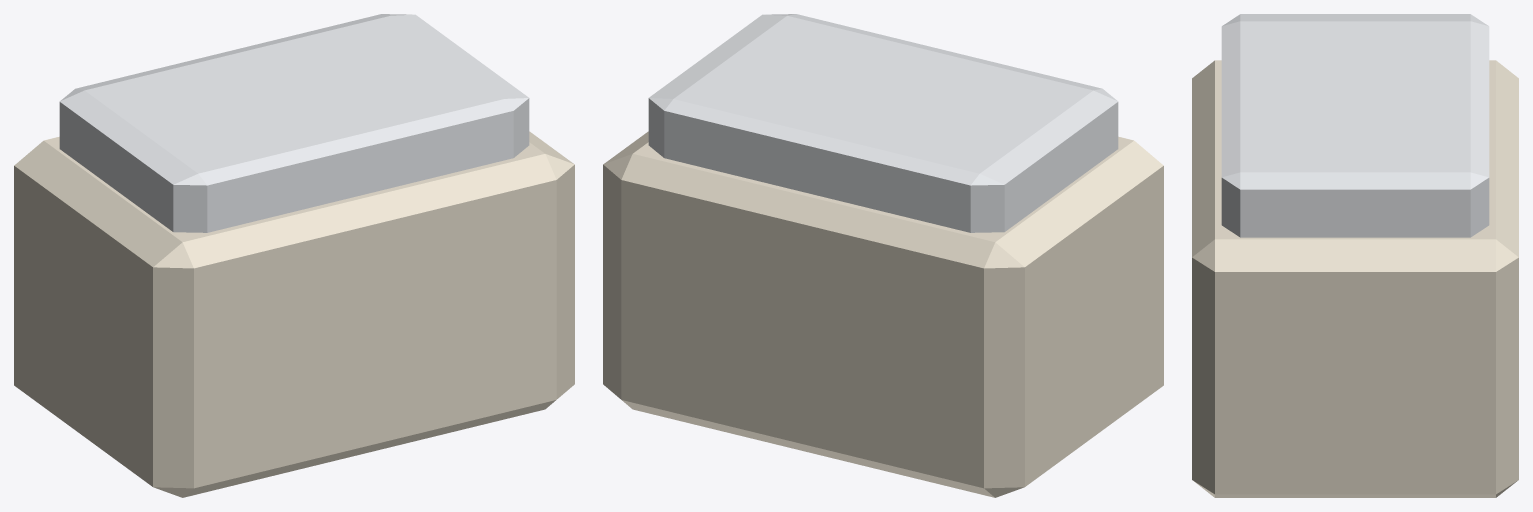
The model's file is b17_compact_digital_camera.glb.
3 renders of one model, left to right at view 1: azimuth 30°, elevation 25°; view 2: azimuth 150°, elevation 25°; view 3: azimuth 270°, elevation 25°, orthographic.
Parts seen in each view (by area): view 1: b17_compact_digital_camera; view 2: b17_compact_digital_camera; view 3: b17_compact_digital_camera.
Boxes of the visible parts, box(x1,y1,x2,y2) form: b17_compact_digital_camera: box(14, 14, 574, 497); b17_compact_digital_camera: box(603, 14, 1163, 497); b17_compact_digital_camera: box(1192, 14, 1518, 497).
Bounding box in the file's own units: 0.116 × 0.081 × 0.077.
